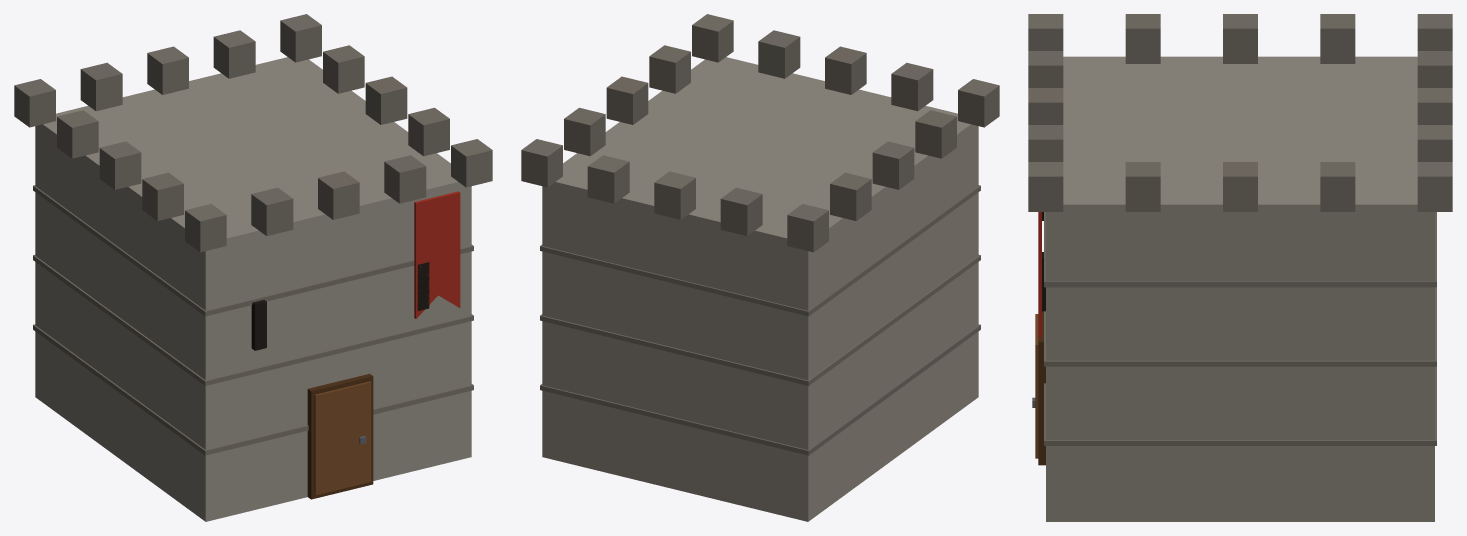
Rendered from barracks.glb.
3 views of the same model, side by side, from view 1: azimuth 30°, elevation 25°; view 2: azimuth 150°, elevation 25°; view 3: azimuth 270°, elevation 25° (orthographic). The views are drawn at different scales.
Visible parts, largest first — view 1: barracks; view 2: barracks; view 3: barracks.
Part boxes in pixels (box(x1,y1,x2,y2)): barracks: box(14, 14, 492, 521); barracks: box(521, 14, 999, 521); barracks: box(1028, 14, 1452, 521).
Bounding box in the file's own units: 1.98 × 2 × 2.18.
